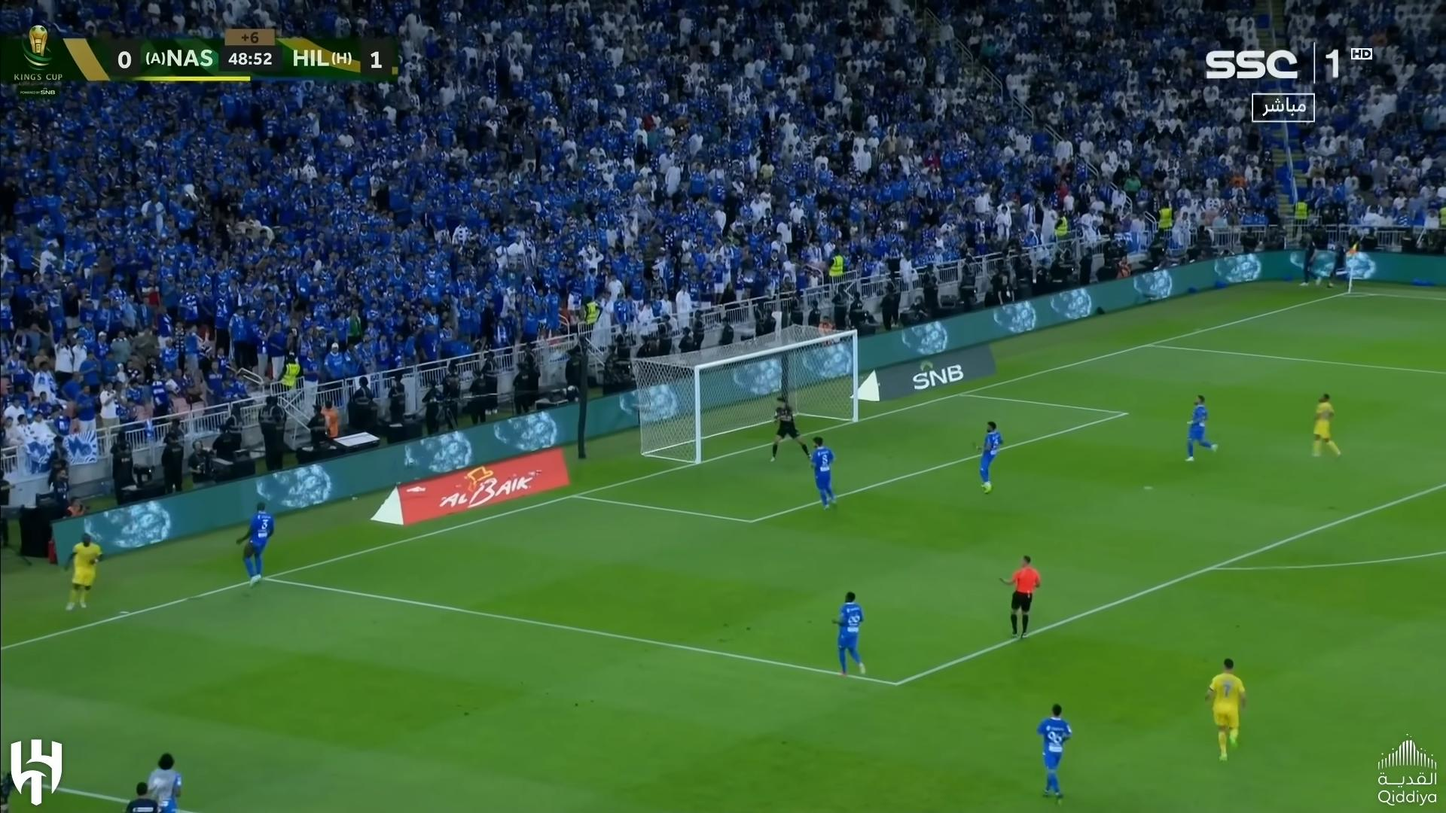Goalkeeper: (771, 395, 811, 459)
Player: (1206, 658, 1245, 761), (1036, 703, 1073, 802), (237, 500, 274, 586), (833, 590, 867, 678), (65, 534, 102, 613), (1186, 395, 1217, 462), (1313, 392, 1342, 457), (811, 438, 836, 508), (980, 421, 1003, 494)
referee: (1003, 556, 1042, 638)
